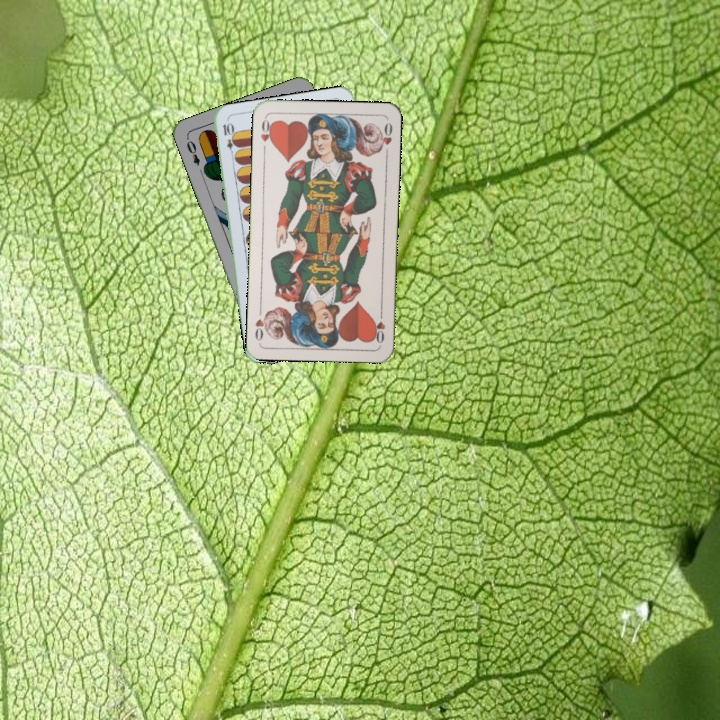E10: (219, 119, 237, 159)
EO: (182, 133, 203, 168)
HO: (257, 114, 275, 155), (370, 306, 388, 346)
